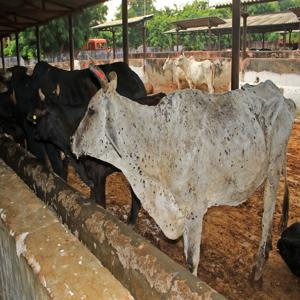lumpy skin diesease: (69, 70, 297, 289), (61, 47, 185, 196)
